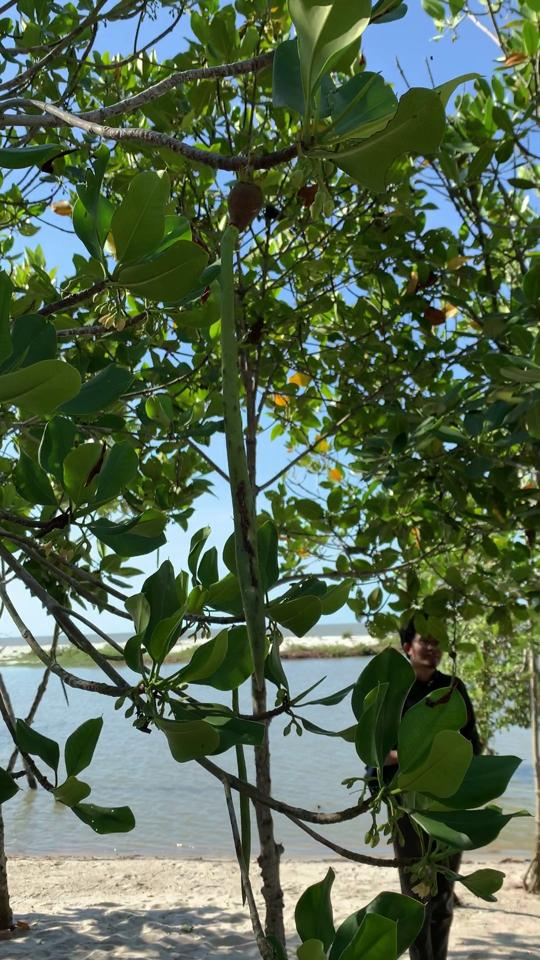setengah matang: (205, 163, 287, 708)
